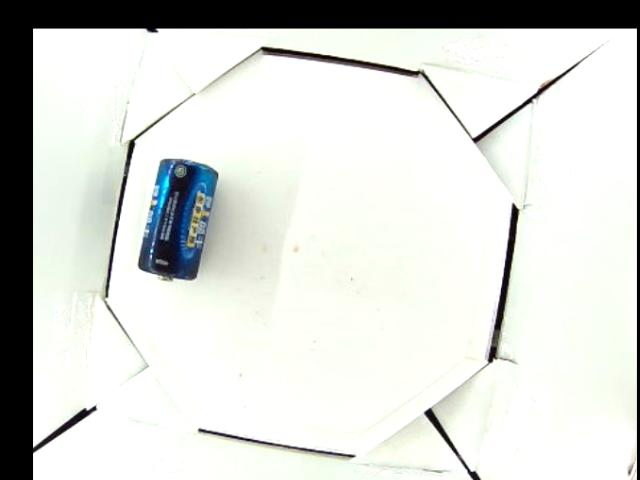Battery: (135, 156, 218, 281)
